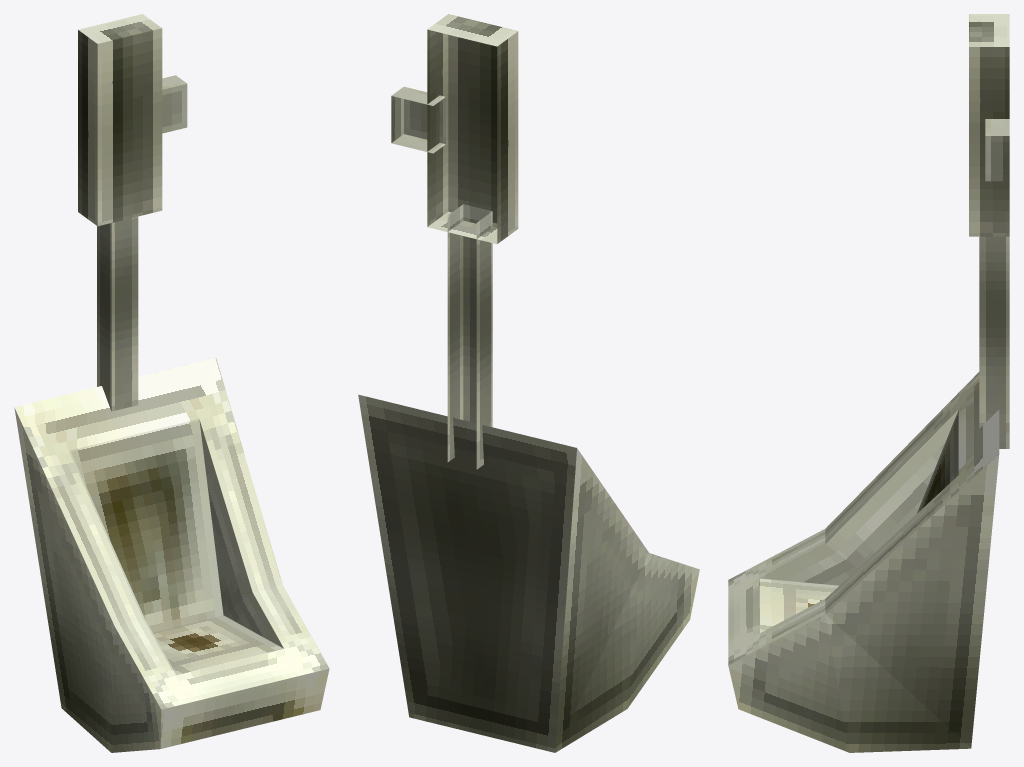
The model's file is Urinal.fbx.
The picture shows the model from 3 angles, left to right: view 1: azimuth 30°, elevation 25°; view 2: azimuth 150°, elevation 25°; view 3: azimuth 270°, elevation 25°; orthographic projection. The views are drawn at different scales.
Visible parts, largest first — view 1: Urinal; view 2: Urinal; view 3: Urinal.
Boxes of the visible parts, box(x1,y1,x2,y2) form: Urinal: box(14, 14, 329, 752); Urinal: box(358, 14, 699, 752); Urinal: box(728, 14, 1009, 752).
Bounding box in the file's own units: 48 × 149 × 55.6.
